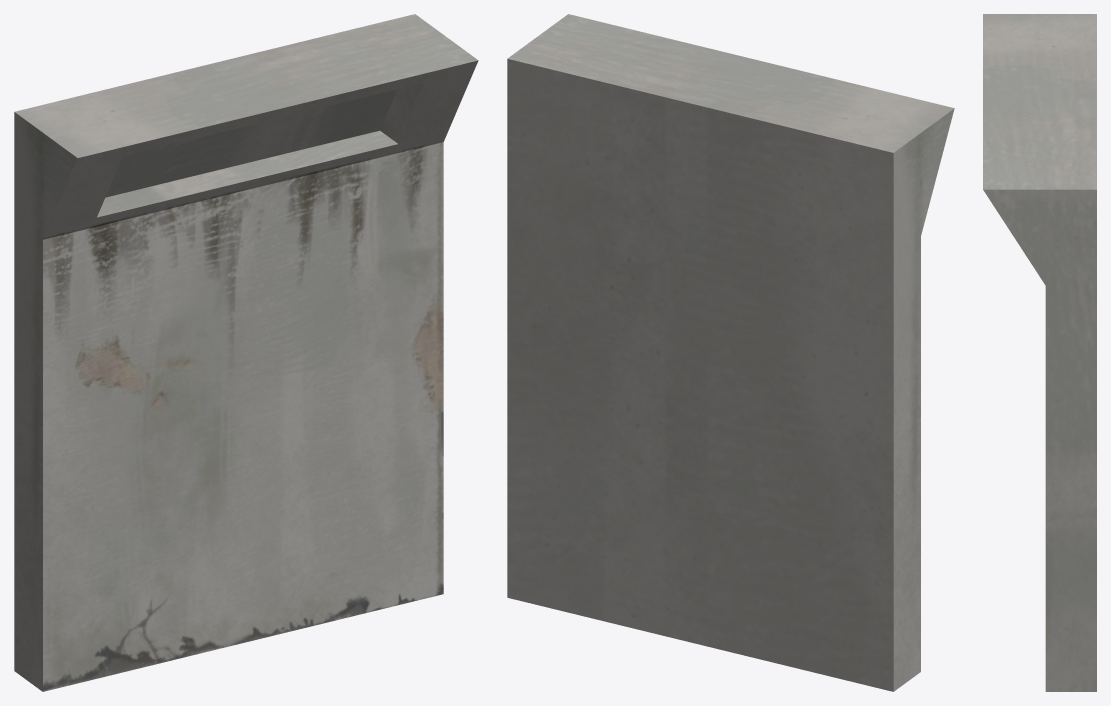
The model's file is wall_05.fbx.
3 views of the same model, side by side, from view 1: azimuth 30°, elevation 25°; view 2: azimuth 150°, elevation 25°; view 3: azimuth 270°, elevation 25° (orthographic). The views are drawn at different scales.
Visible parts, largest first — view 1: wall_006; view 2: wall_006; view 3: wall_006.
Boxes of the visible parts, x1,y1,x2,y2 form: wall_006: [14, 14, 478, 691]; wall_006: [507, 14, 954, 691]; wall_006: [983, 14, 1096, 691].
Bounding box in the file's own units: 300 × 400 × 82.21.
